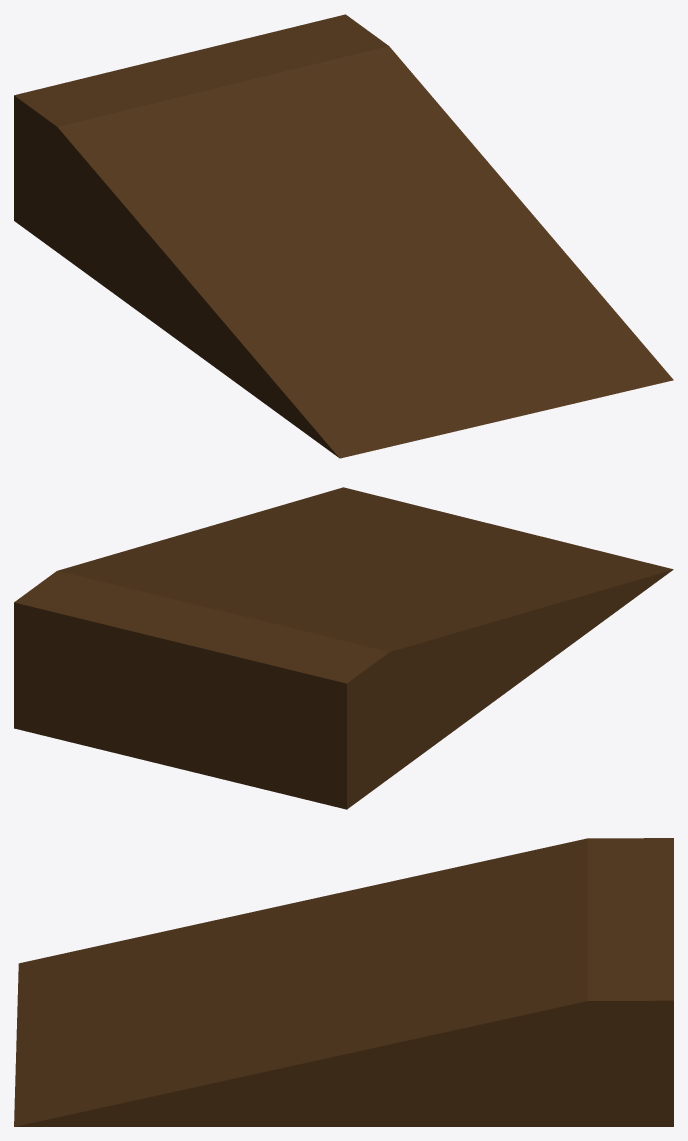
The model's file is hill.glb.
3 views of the same model, one above another, from view 1: azimuth 30°, elevation 25°; view 2: azimuth 150°, elevation 25°; view 3: azimuth 270°, elevation 25° (orthographic).
Parts seen in each view (by area): view 1: Cube; view 2: Cube; view 3: Cube.
Boxes of the visible parts, left/top/right/bottom form: Cube: left=14, top=14, right=673, bottom=458; Cube: left=14, top=487, right=673, bottom=809; Cube: left=14, top=838, right=673, bottom=1126.
Size of the model in its own units: 61.81 by 22.33 by 106.
